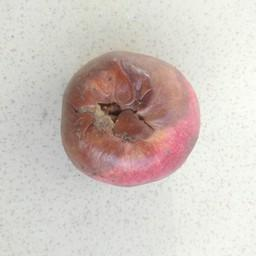Bad_apple: (59, 43, 203, 190)
